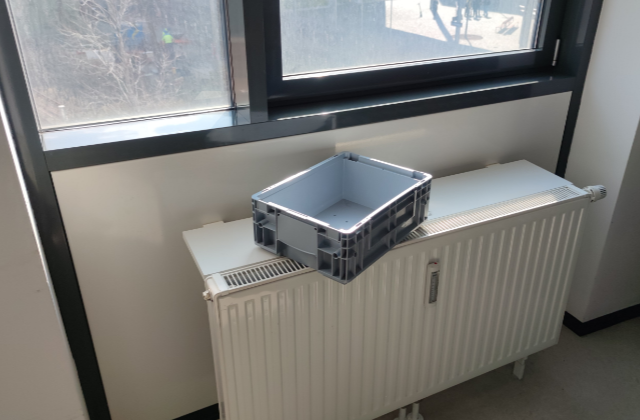Box: (250, 150, 432, 285)
